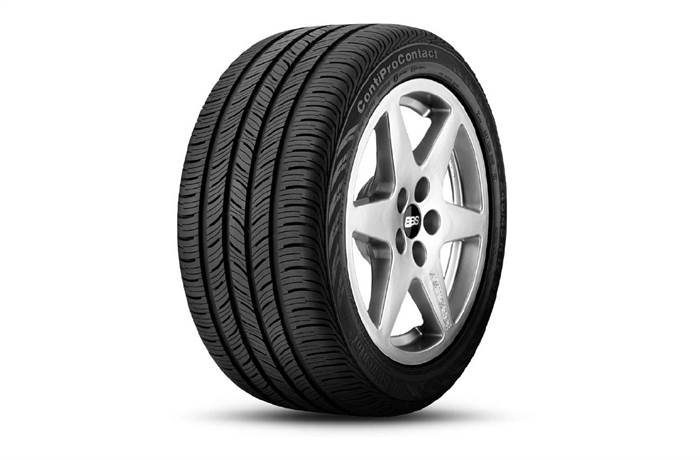tire: (174, 29, 516, 423)
